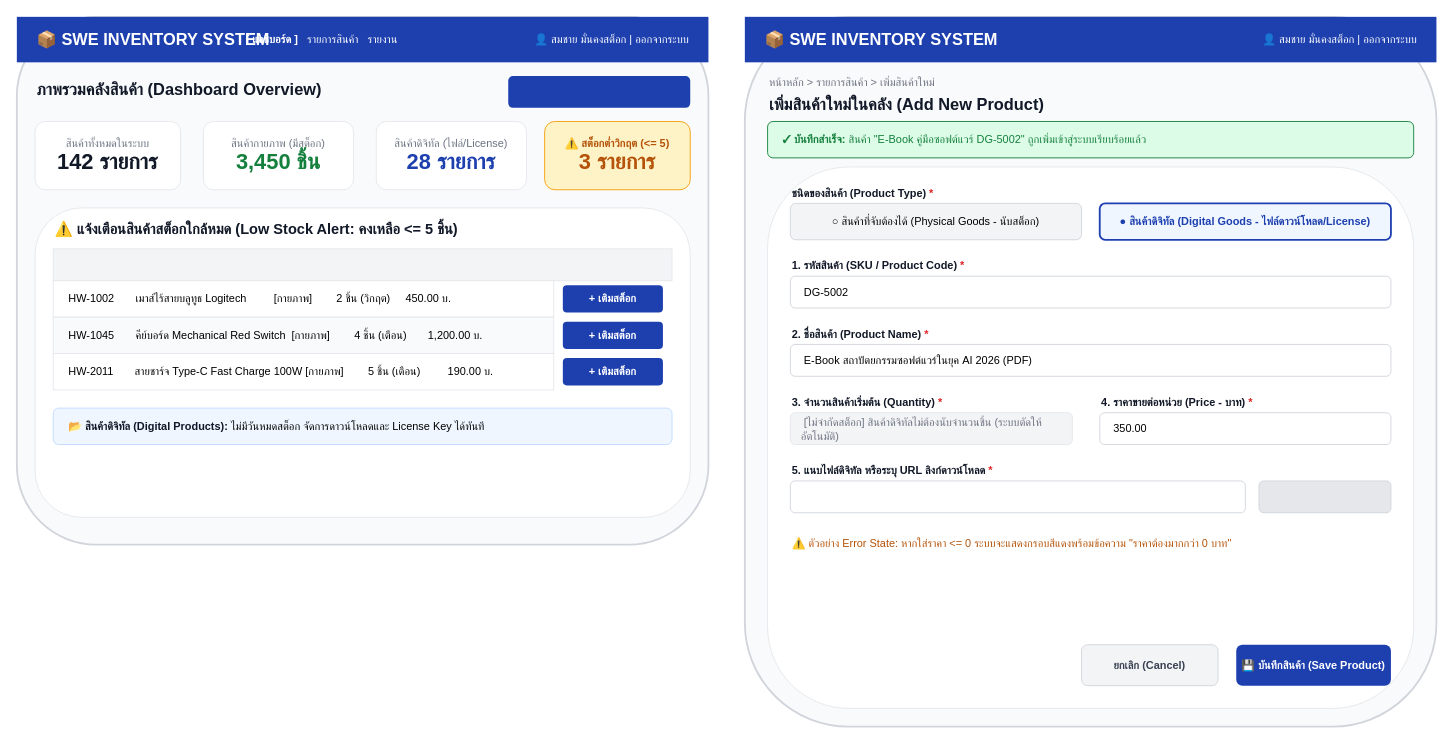
Image size: 1452x743. Some labels were removed from this diagram. Each missing label, with the centre of its shape:
+ เพิ่มสินค้าใหม่ (Add Product): point 599,91
https://storage.rmuti.ac.th/ebooks/swe-ai-2026.pdf: point 1017,496
รหัสสินค้า ชื่อสินค้า ประเภท คงเหลือ ราคา/หน่วย การกระทำ: point 362,264
เลือกไฟล์จากเครื่อง...: point 1324,496
